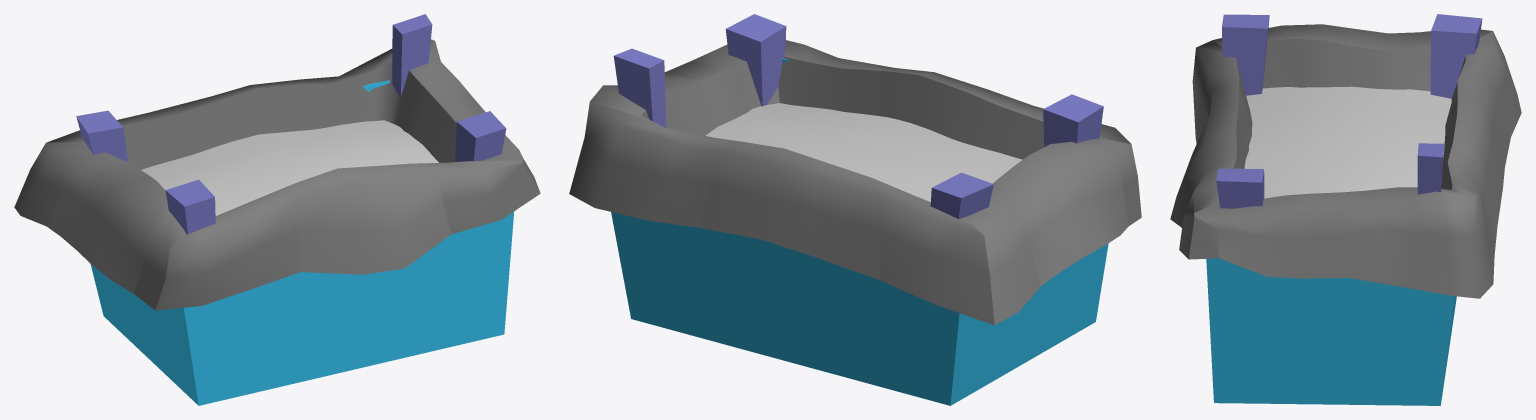
The model's file is Fruit_box.fbx.
3 views of the same model, side by side, from view 1: azimuth 30°, elevation 25°; view 2: azimuth 150°, elevation 25°; view 3: azimuth 270°, elevation 25° (orthographic). The views are drawn at different scales.
Visible parts, largest first — view 1: Fruit_box; view 2: Fruit_box; view 3: Fruit_box.
Boxes of the visible parts, x1,y1,x2,y2 form: Fruit_box: [14, 14, 540, 405]; Fruit_box: [569, 14, 1141, 405]; Fruit_box: [1170, 14, 1521, 405].
Bounding box in the file's own units: 78.89 × 42.8 × 52.54.
